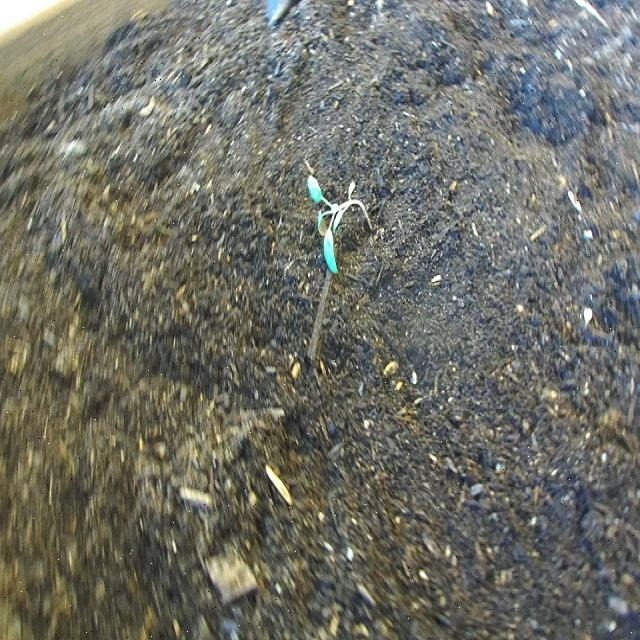Healthy: (303, 166, 377, 278)
